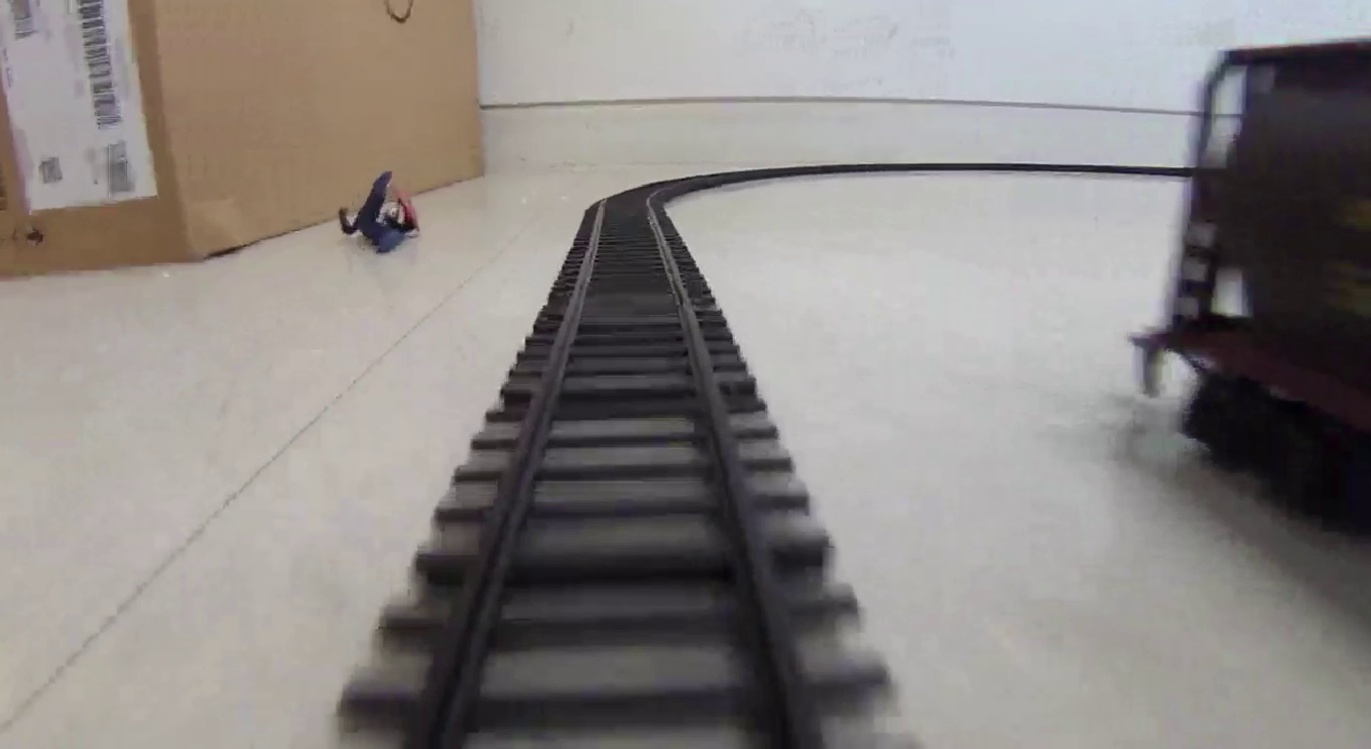people: (337, 168, 418, 255)
